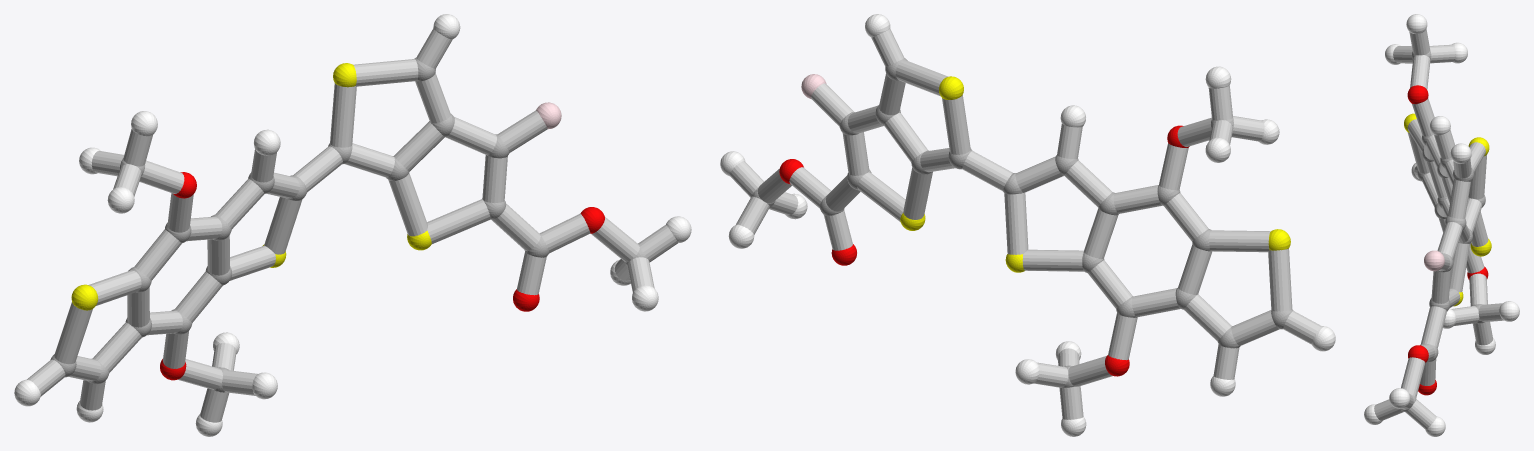
The model's file is Dimethoxy_Benzodithiophene_Phi_20_Theta_330_Methylcarbonyl_3_Fluoro_Thienothiophene.glb.
3 renders of one model, left to right at view 1: azimuth 30°, elevation 25°; view 2: azimuth 150°, elevation 25°; view 3: azimuth 270°, elevation 25°, orthographic. The views are drawn at different scales.
Parts seen in each view (by area): view 1: grp15205, grp8689, grp1, grp13395, grp7241; view 2: grp15205, grp8689, grp1, grp7241, grp13395; view 3: grp15205, grp8689, grp1, grp13395, grp7241, grp14843.
Boxes of the visible parts, x1,y1,x2,y2 form: grp15205: [27, 28, 677, 422]; grp8689: [14, 14, 691, 436]; grp1: [50, 57, 647, 392]; grp13395: [160, 172, 604, 380]; grp7241: [71, 63, 431, 310]; grp15205: [729, 28, 1321, 419]; grp8689: [720, 14, 1335, 436]; grp1: [751, 58, 1293, 387]; grp7241: [900, 76, 1290, 272]; grp13395: [779, 125, 1189, 376]; grp15205: [1374, 29, 1503, 429]; grp8689: [1364, 14, 1519, 436]; grp1: [1400, 50, 1485, 411]; grp13395: [1407, 85, 1488, 395]; grp7241: [1404, 113, 1491, 306]; grp14843: [1424, 250, 1444, 271].
Size of the model in its own units: 16.96 by 9.39 by 4.45.
